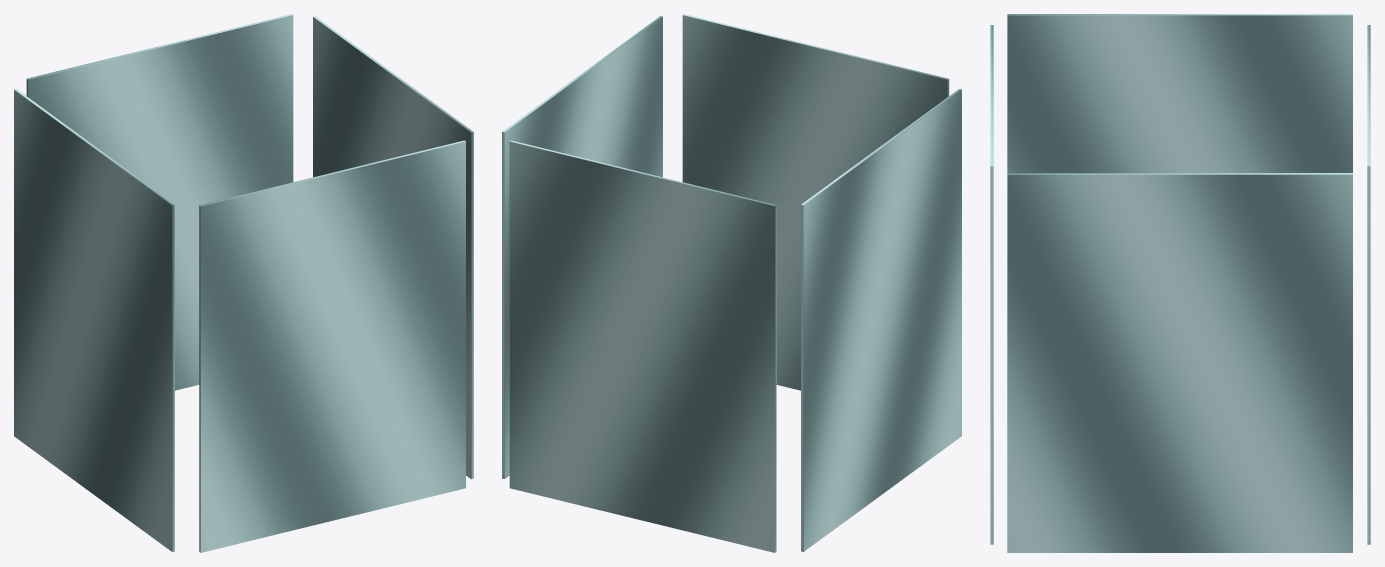
Rendered from vidrio.obj.
3 views of the same model, side by side, from view 1: azimuth 30°, elevation 25°; view 2: azimuth 150°, elevation 25°; view 3: azimuth 270°, elevation 25° (orthographic). The views are drawn at different scales.
Visible parts, largest first — view 1: pasted__pCube1 group11, pasted__pasted__pasted__pCube1 pasted__pasted__group11 pasted__g, pasted__pasted__pCube1 pasted__group11 group14, pasted__pasted__pCube1 pasted__group11 group12; view 2: pasted__pasted__pCube1 pasted__group11 group14, pasted__pasted__pasted__pCube1 pasted__pasted__group11 pasted__g, pasted__pCube1 group11, pasted__pasted__pCube1 pasted__group11 group12; view 3: pasted__pasted__pCube1 pasted__group11 group12, pasted__pasted__pasted__pCube1 pasted__pasted__group11 pasted__g, pasted__pasted__pCube1 pasted__group11 group14, pasted__pCube1 group11.
Boxes of the visible parts, box(x1,y1,x2,y2) form: pasted__pCube1 group11: box(199, 140, 465, 552); pasted__pasted__pasted__pCube1 pasted__pasted__group11 pasted__g: box(14, 89, 174, 551); pasted__pasted__pCube1 pasted__group11 group14: box(26, 14, 293, 390); pasted__pasted__pCube1 pasted__group11 group12: box(313, 16, 473, 479); pasted__pasted__pCube1 pasted__group11 group14: box(509, 140, 776, 552); pasted__pasted__pasted__pCube1 pasted__pasted__group11 pasted__g: box(801, 89, 961, 551); pasted__pCube1 group11: box(682, 14, 949, 390); pasted__pasted__pCube1 pasted__group11 group12: box(502, 16, 662, 478); pasted__pasted__pCube1 pasted__group11 group12: box(1007, 173, 1352, 552); pasted__pasted__pasted__pCube1 pasted__pasted__group11 pasted__g: box(1007, 14, 1352, 172); pasted__pasted__pCube1 pasted__group11 group14: box(1367, 25, 1370, 544); pasted__pCube1 group11: box(990, 25, 993, 544).
Bounding box in the file's own units: 0.7826 × 0.86 × 0.7835.
4 materials, 4 textured.
